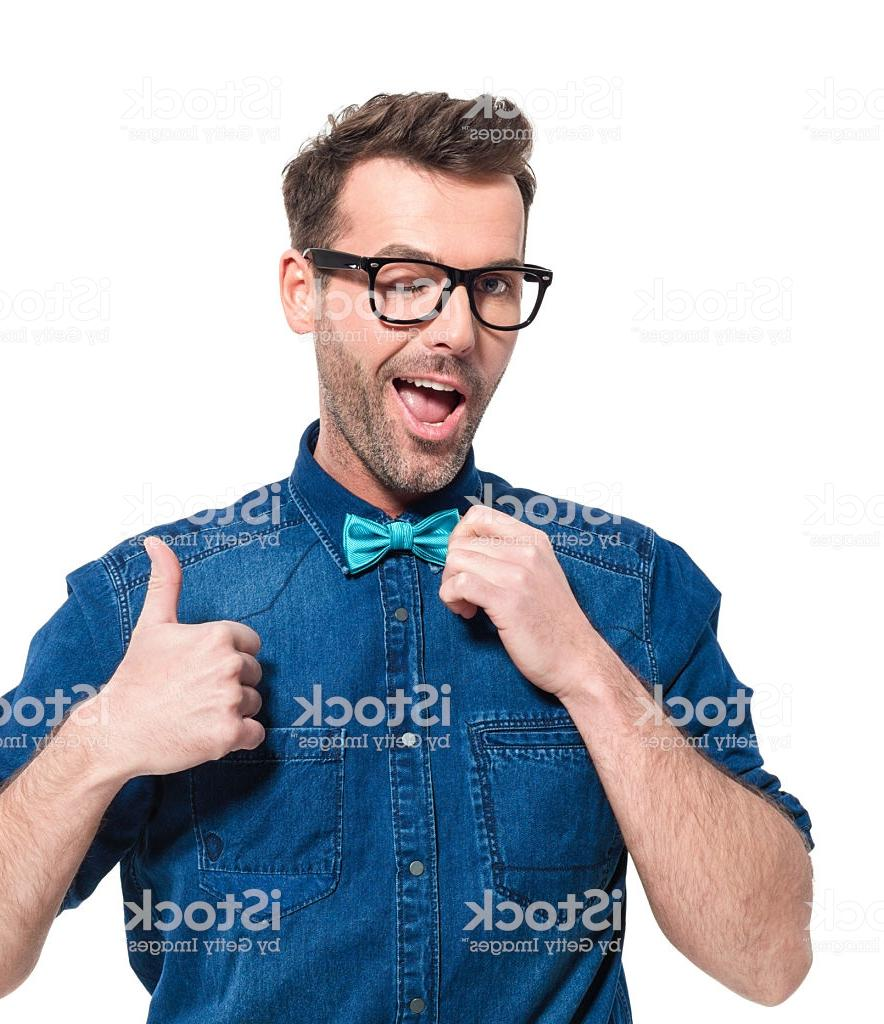thumbsup: (137, 536, 266, 772)
